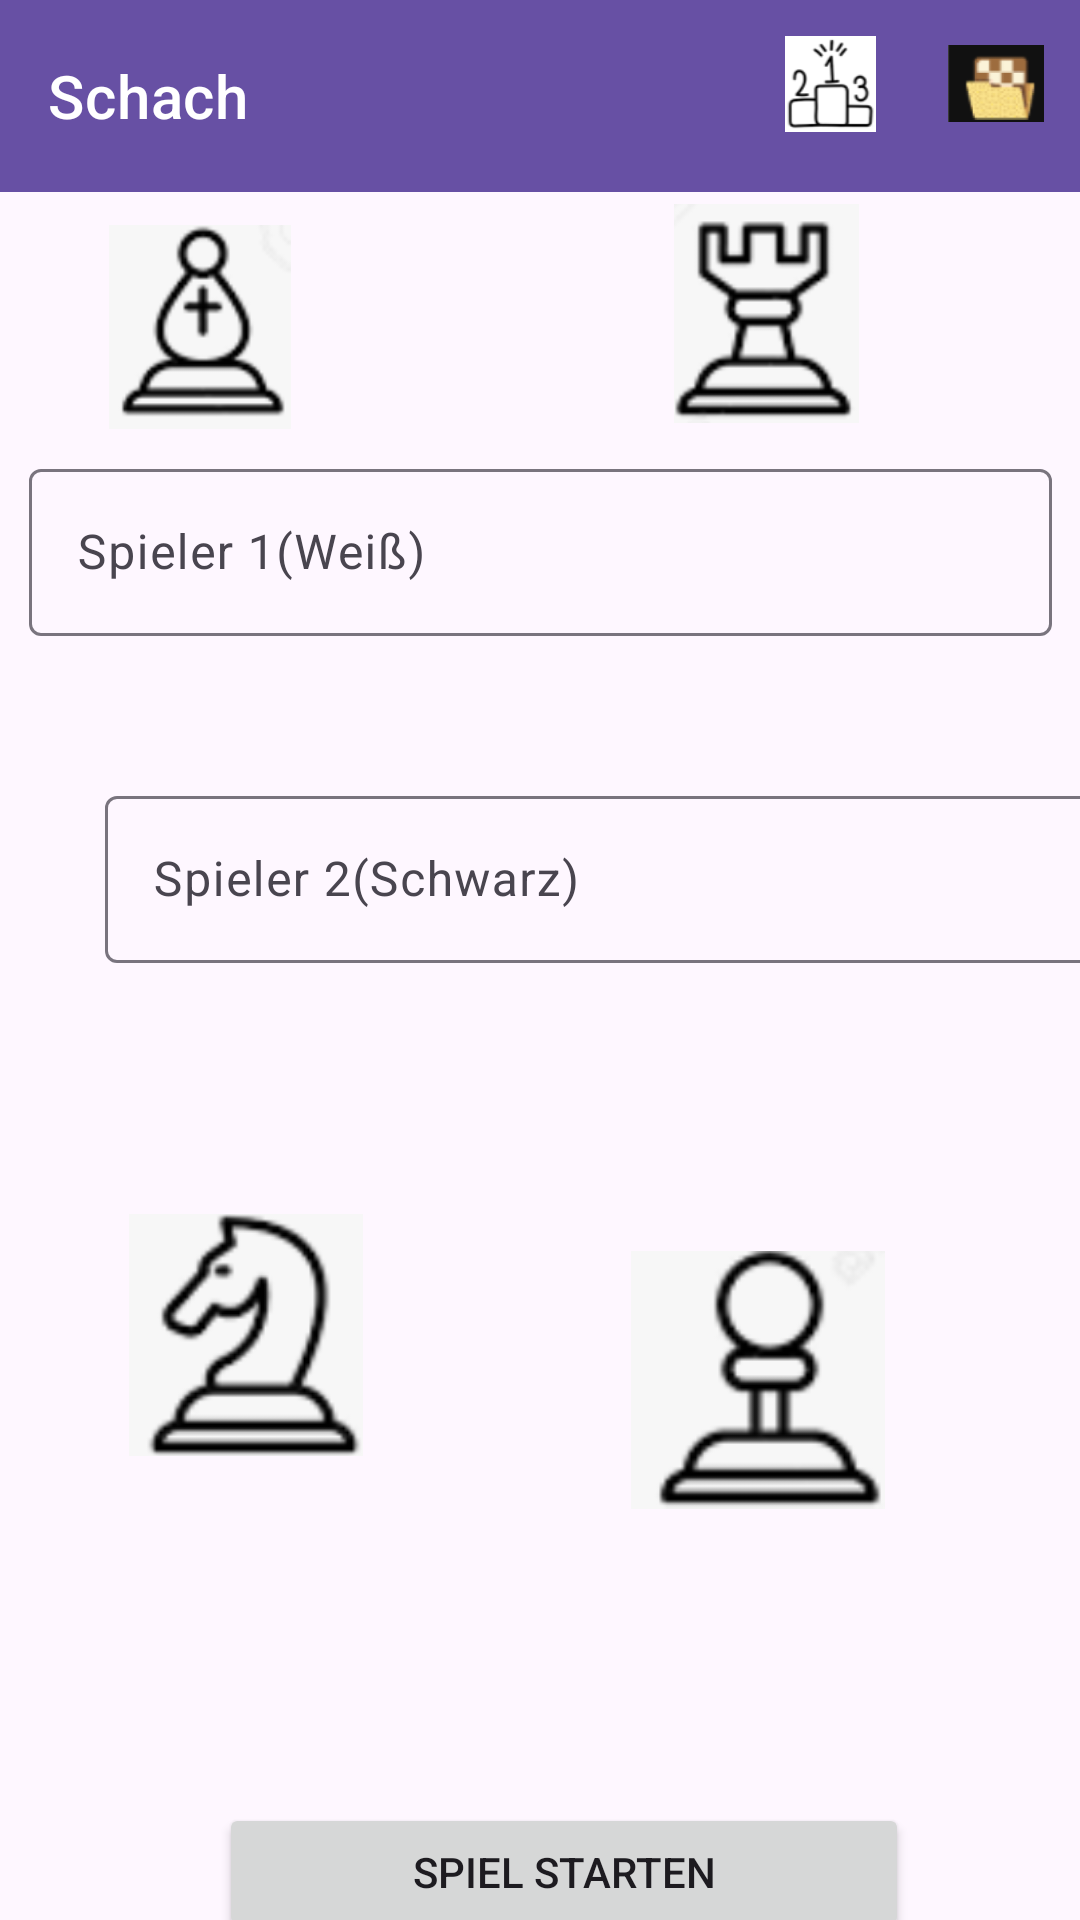

Locate icon controls on the screen. Image size 1080*1920, boxes as (x1, y1, x2, y2).
whitebishop: (121, 226, 285, 416)
whiteknight: (149, 1214, 359, 1455)
whitepawn: (659, 1251, 881, 1506)
whiterook: (675, 221, 852, 418)
